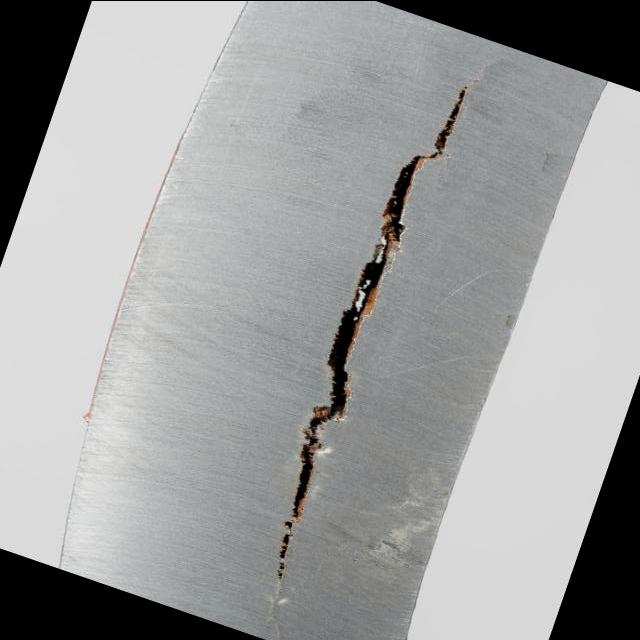defect: (275, 77, 476, 584)
